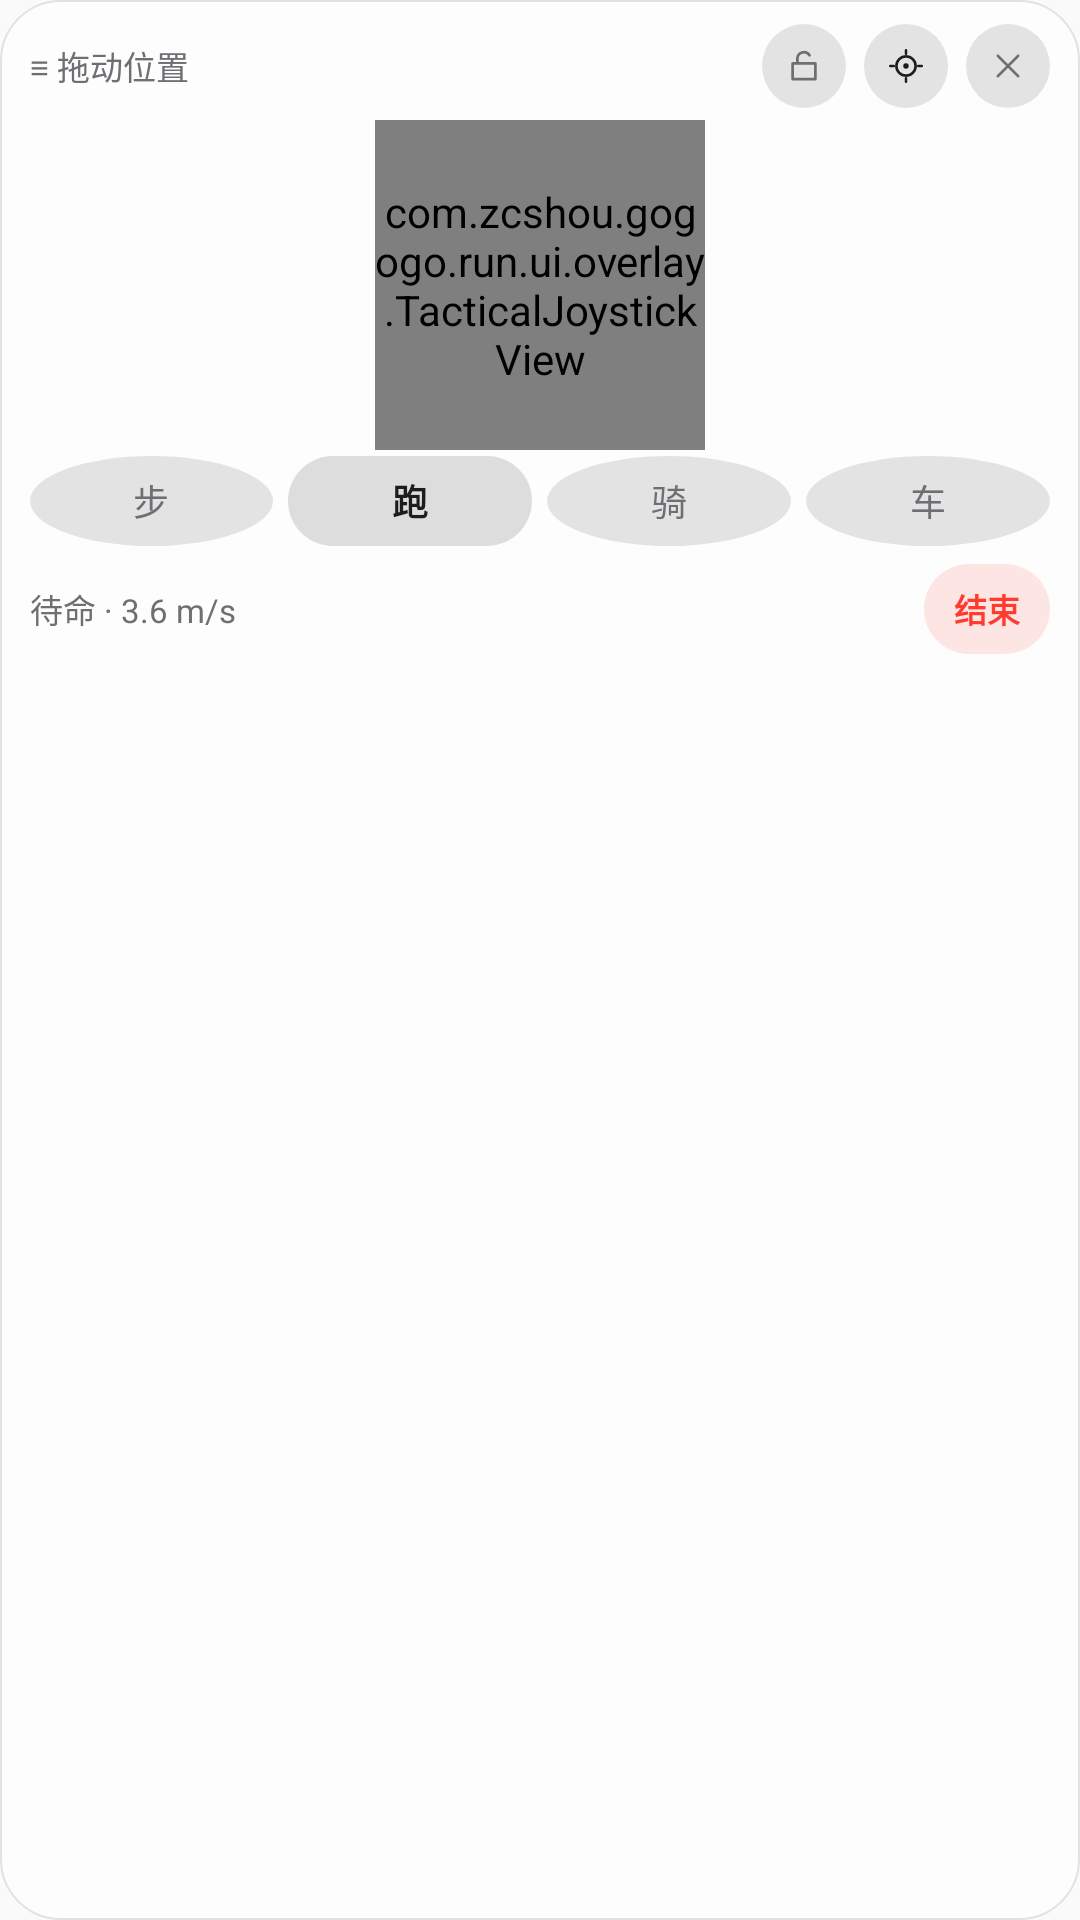

Locate icon controls on the screen. Image size 1080*1920, boxes as detection(x1, y1, x2, y2).
回到当前位置: detection(864, 25, 947, 107)
摇杆锁定: detection(762, 25, 845, 107)
隐藏: detection(966, 25, 1049, 107)
